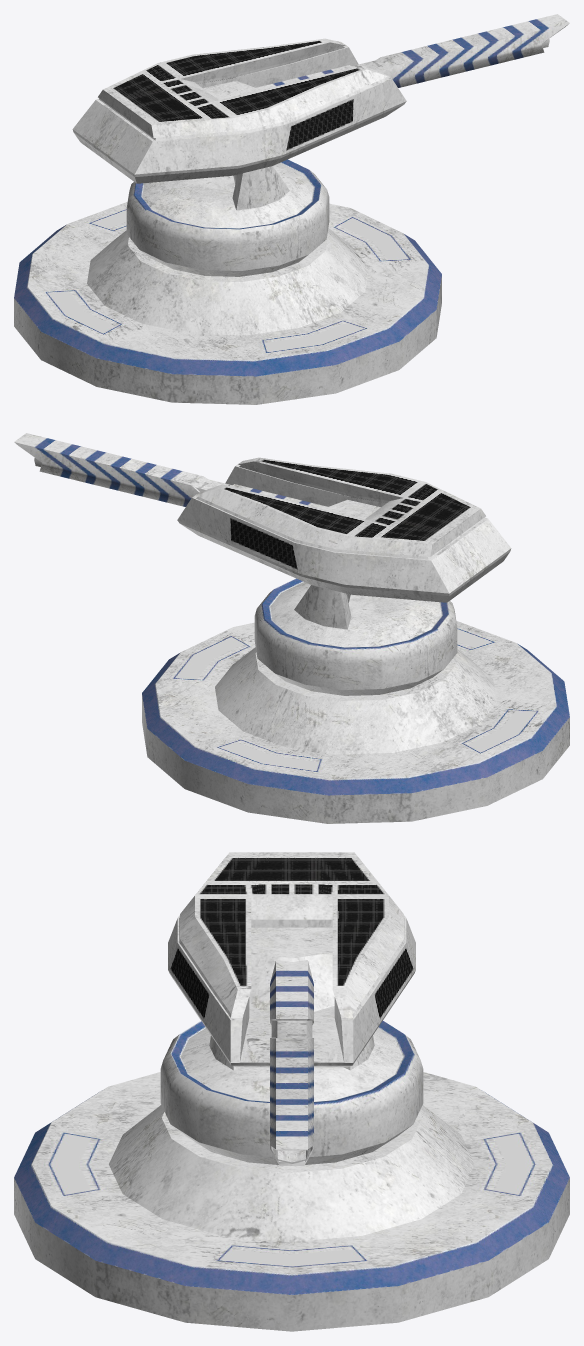
The model's file is GunTower_1.fbx.
The picture shows the model from 3 angles, top to bottom: view 1: azimuth 30°, elevation 25°; view 2: azimuth 150°, elevation 25°; view 3: azimuth 270°, elevation 25°; orthographic projection. The views are drawn at different scales.
Parts seen in each view (by area): view 1: Platform_lp, Turret_lp, Axses_lp, Gun_lp; view 2: Platform_lp, Turret_lp, Axses_lp, Gun_lp; view 3: Platform_lp, Turret_lp, Axses_lp, Gun_lp.
Boxes of the visible parts, left/top/right/bottom form: Platform_lp: left=14, top=202, right=441, bottom=404; Turret_lp: left=72, top=38, right=406, bottom=183; Axses_lp: left=126, top=159, right=329, bottom=276; Gun_lp: left=351, top=14, right=569, bottom=87; Platform_lp: left=142, top=621, right=569, bottom=823; Turret_lp: left=177, top=457, right=511, bottom=602; Axses_lp: left=254, top=578, right=457, bottom=695; Gun_lp: left=14, top=433, right=232, bottom=506; Platform_lp: left=14, top=1072, right=569, bottom=1331; Turret_lp: left=168, top=852, right=415, bottom=1067; Axses_lp: left=160, top=1021, right=423, bottom=1164; Gun_lp: left=270, top=1020, right=313, bottom=1165.
Size of the model in its own units: 1.99 by 1.18 by 2.79.
1 material, 1 textured.
